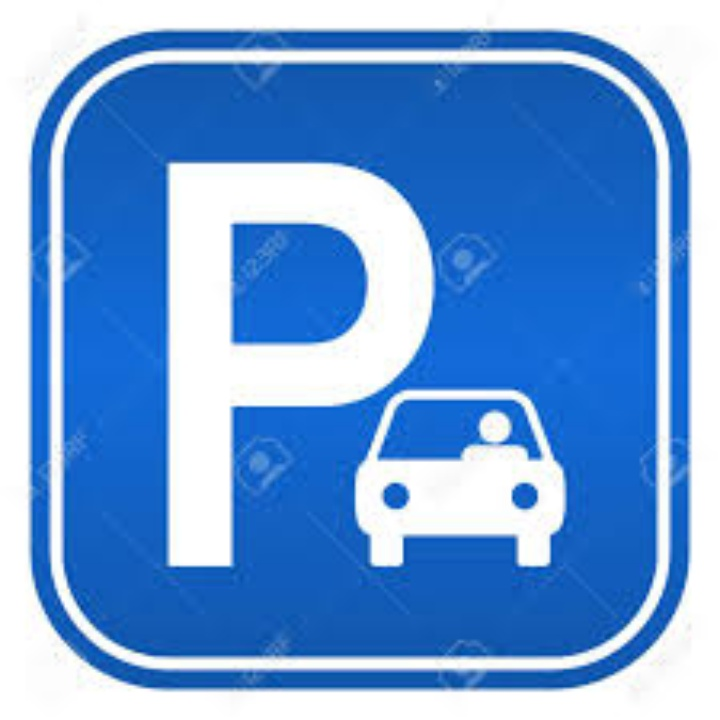parking: (153, 148, 443, 578)
